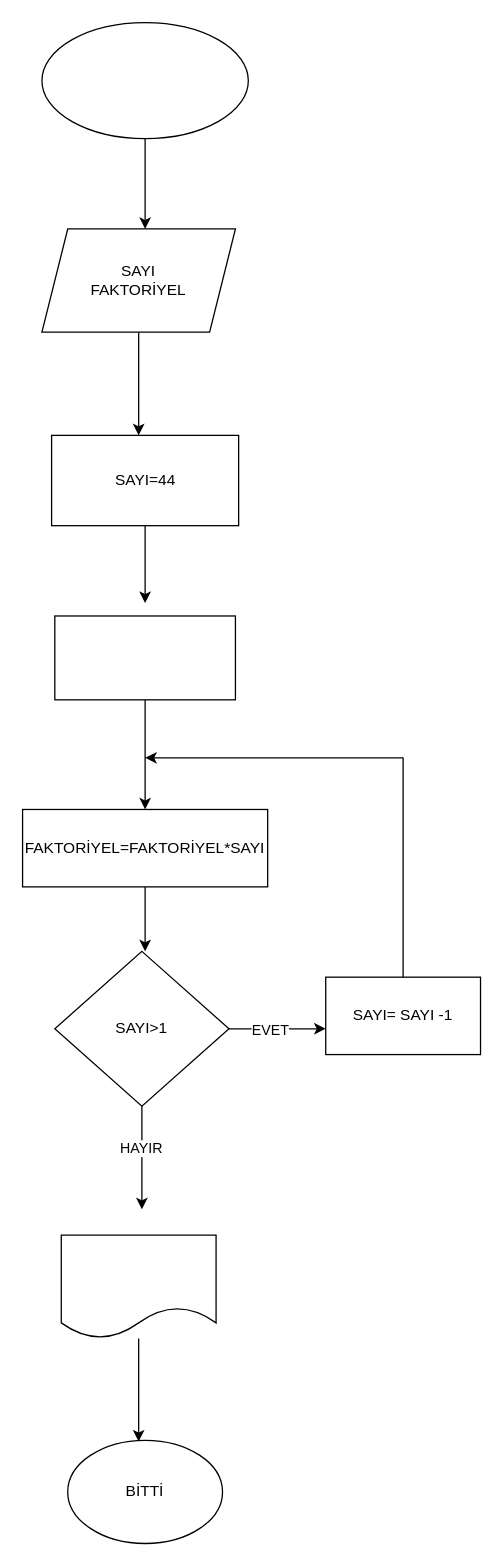
This 503x1566 diagram has some shape labels left out. Each missing label, with the box of its shape:
BAŞLA: (41, 21, 248, 139)
FAKTORİYEL: (60, 1234, 216, 1338)
FAKTORİYEL=44: (54, 615, 235, 700)
